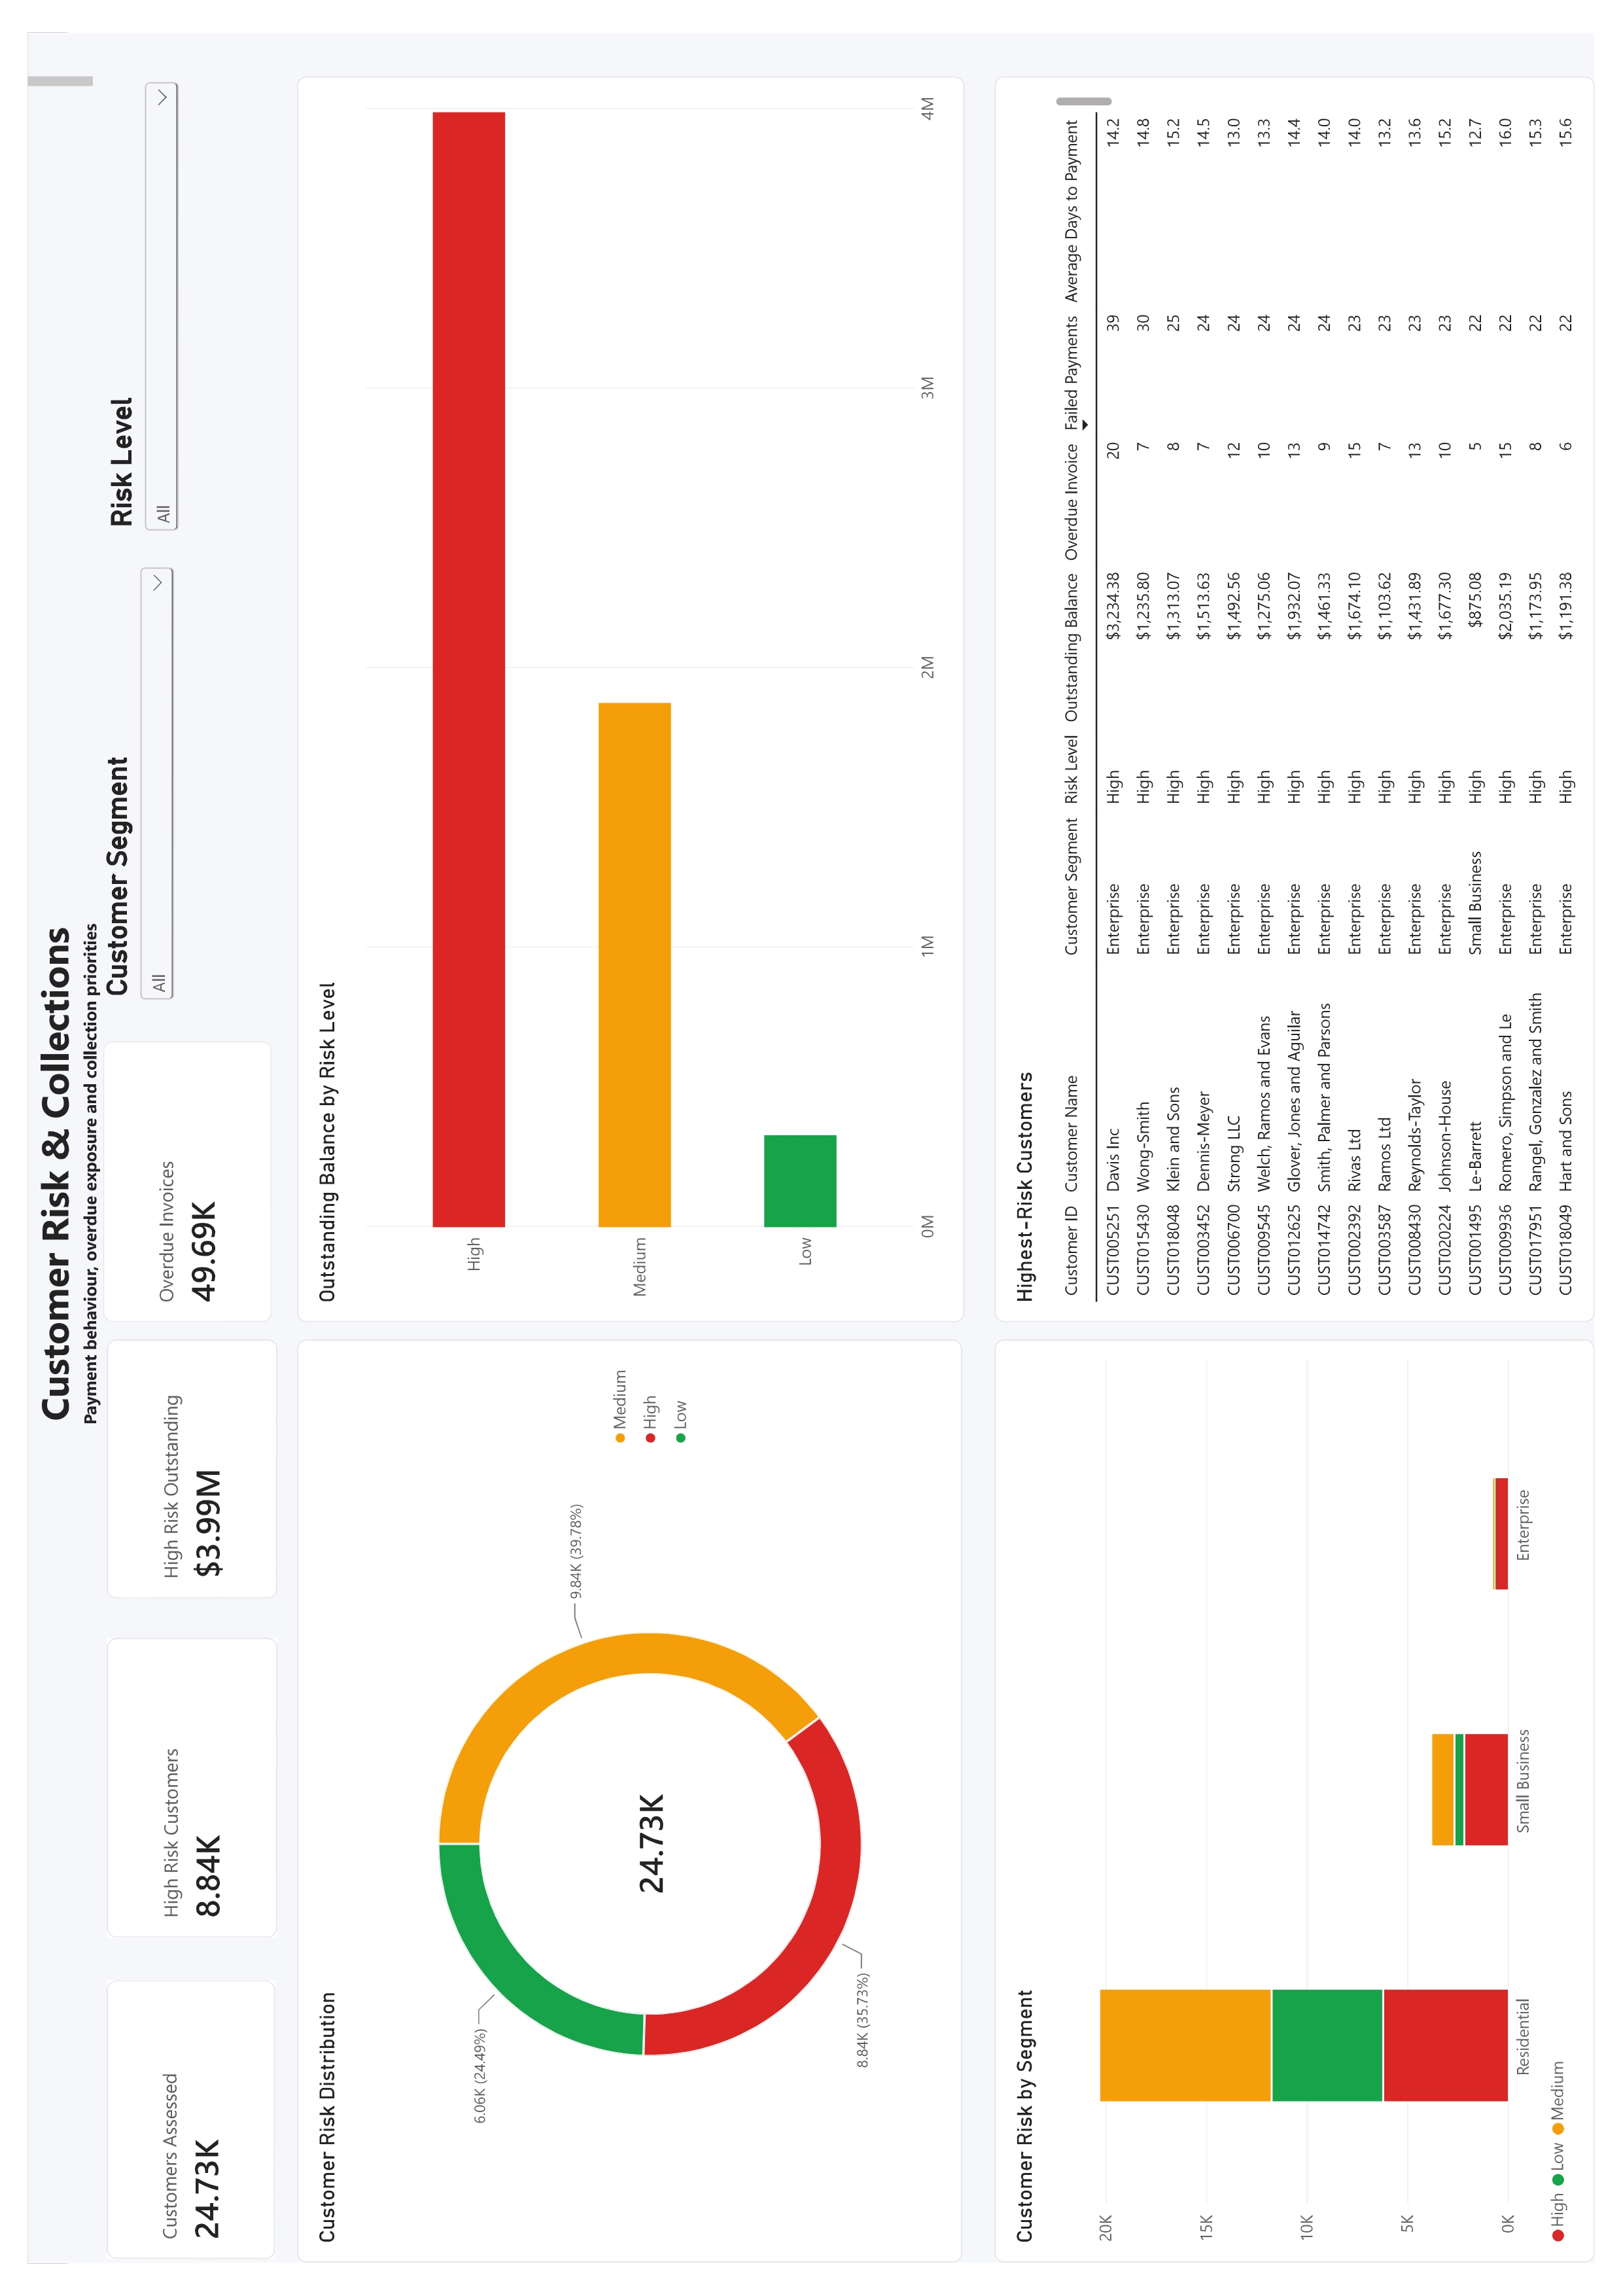

This screenshot's page, from the dashboard's own definition file:
{"tool":"powerbi","page":{"name":"Customer Risk","canvas":[1920,1350],"ordinal":2},"visuals":[{"type":"cardVisual","fields":{"Data":["KPI Measures.Customers Assessed"]},"box":[3.3,68.3,240,145],"z":0},{"type":"cardVisual","fields":{"Data":["KPI Measures.High Risk Customers"]},"box":[280,68.3,258.3,146.7],"z":1000},{"type":"donutChart","title":"Customer Risk Distribution","fields":{"Category":["public vw_customer_risk.risk_level"],"Y":["KPI Measures.Customers Assessed"]},"box":[0,231.7,795,573.3],"z":2000},{"type":"clusteredBarChart","title":"Outstanding Balance by Risk Level","fields":{"Category":["public vw_customer_risk.risk_level"],"Y":["Sum(public vw_invoice_financials.outstanding_balance)"]},"box":[810,231.7,1073.3,575],"z":3000},{"type":"columnChart","title":"Customer Risk by Segment","fields":{"Category":["public vw_customer_risk.customer_segment"],"Series":["public vw_customer_risk.risk_level"],"Y":["CountNonNull(public vw_customer_risk.customer_id)"]},"box":[0,833.3,795,516.7],"z":4000},{"type":"textbox","box":[0,0,1883.3,68.3],"z":5000},{"type":"slicer","fields":{"Values":["public vw_customer_risk.customer_segment"]},"box":[1083.3,63.3,381.7,146.7],"z":6000},{"type":"cardVisual","fields":{"Data":["KPI Measures.High Risk Outstanding"]},"box":[571.7,68.3,223.3,146.7],"z":7000},{"type":"tableEx","title":"Highest-Risk Customers","fields":{"Values":["public vw_customer_risk.customer_id","public vw_customer_risk.customer_name","public vw_customer_risk.customer_segment","public vw_customer_risk.risk_level","public vw_customer_risk.outstanding_balance","public vw_customer_risk.overdue_invoice_count","public vw_customer_risk.failed_payment_attempts","public vw_customer_risk.average_days_to_payment"]},"box":[810,833.3,1073.3,516.7],"z":8000},{"type":"slicer","fields":{"Values":["public vw_customer_risk.risk_level"]},"box":[1486.7,66.7,396.7,145],"z":9000},{"type":"cardVisual","fields":{"Data":["KPI Measures.Overdue Invoices"]},"box":[810,65,241.7,145],"z":10000}]}

Visuals, with their boxes on the page's 1920x1350 design canvas (x1, y1, x2, y2). These are canvas units, not pixel positions in the 1623x2296 screenshot, which may show the page scaled, cropped or inside an application window:
cardVisual - KPI Measures.Customers Assessed: detection(3, 68, 243, 213)
cardVisual - KPI Measures.High Risk Customers: detection(280, 68, 538, 215)
"Customer Risk Distribution" donutChart: detection(0, 232, 795, 805)
"Outstanding Balance by Risk Level" clusteredBarChart: detection(810, 232, 1883, 807)
"Customer Risk by Segment" columnChart: detection(0, 833, 795, 1350)
textbox: detection(0, 0, 1883, 68)
slicer - public vw_customer_risk.customer_segment: detection(1083, 63, 1465, 210)
cardVisual - KPI Measures.High Risk Outstanding: detection(572, 68, 795, 215)
"Highest-Risk Customers" tableEx: detection(810, 833, 1883, 1350)
slicer - public vw_customer_risk.risk_level: detection(1487, 67, 1883, 212)
cardVisual - KPI Measures.Overdue Invoices: detection(810, 65, 1052, 210)
